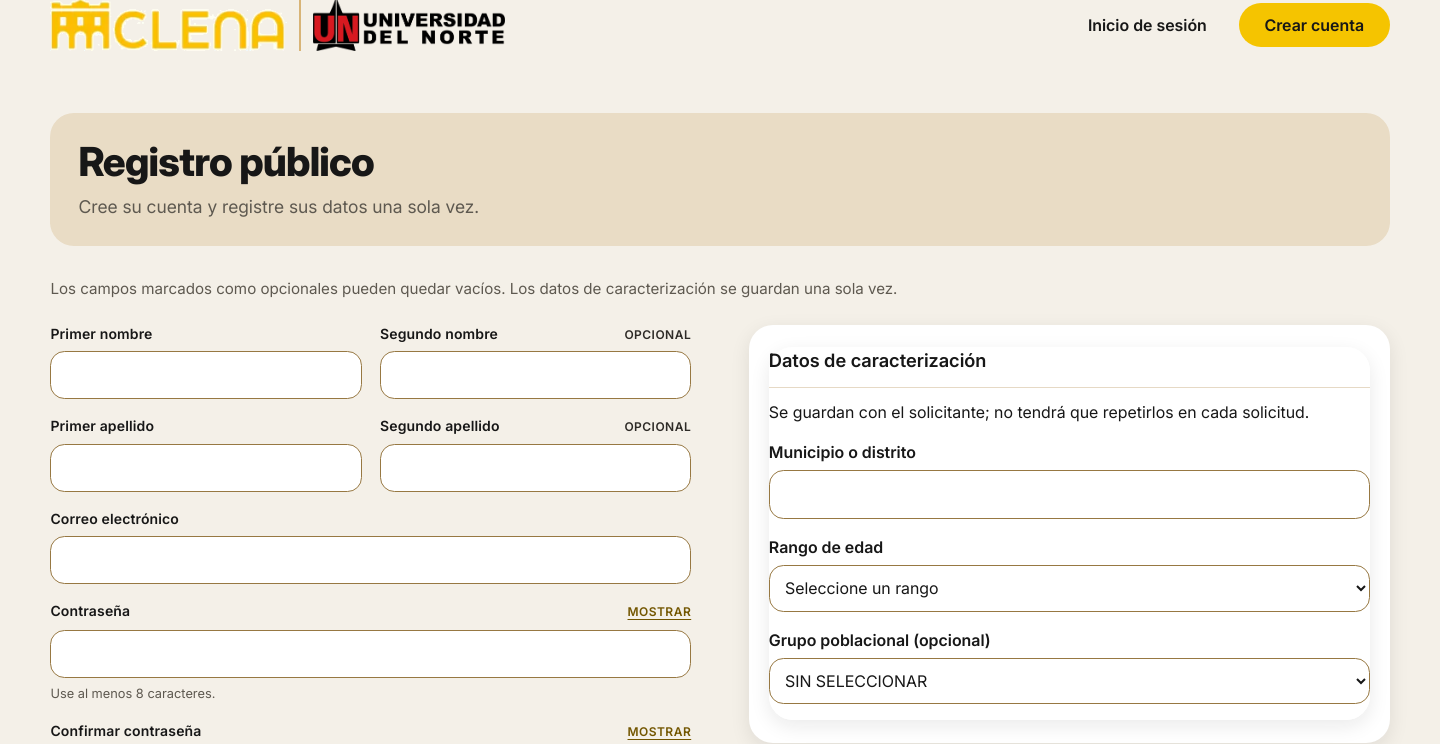
Test: RegisterPage › shows per-field errors and keeps the typed values after an invalid submit
In the field labelled "Primer nombre": (206, 375) [50,351,362,399], type "A"
In the field labelled "Primer apellido": (206, 468) [50,444,362,492], type "P"
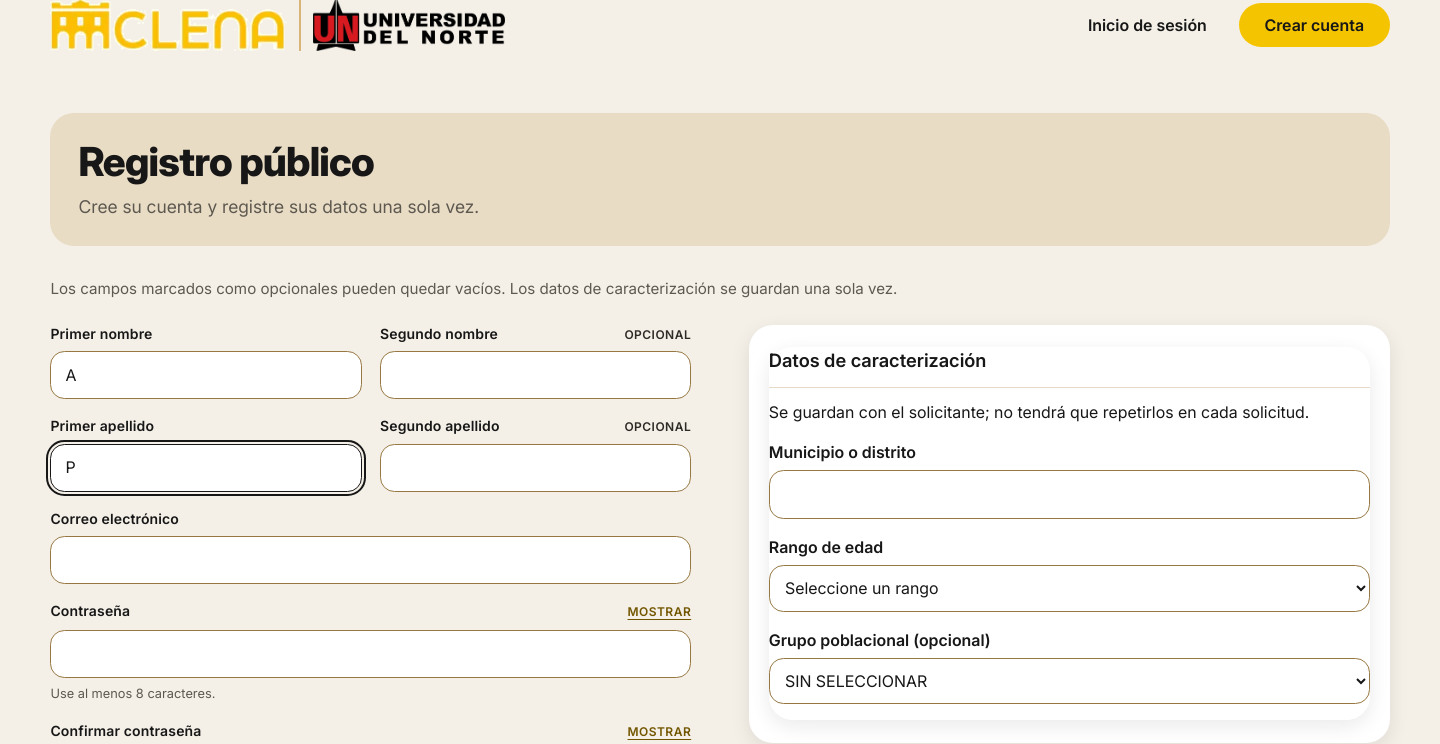
In the field labelled "Correo electrónico": (371, 560) [50,536,691,584], type "ana@mail"
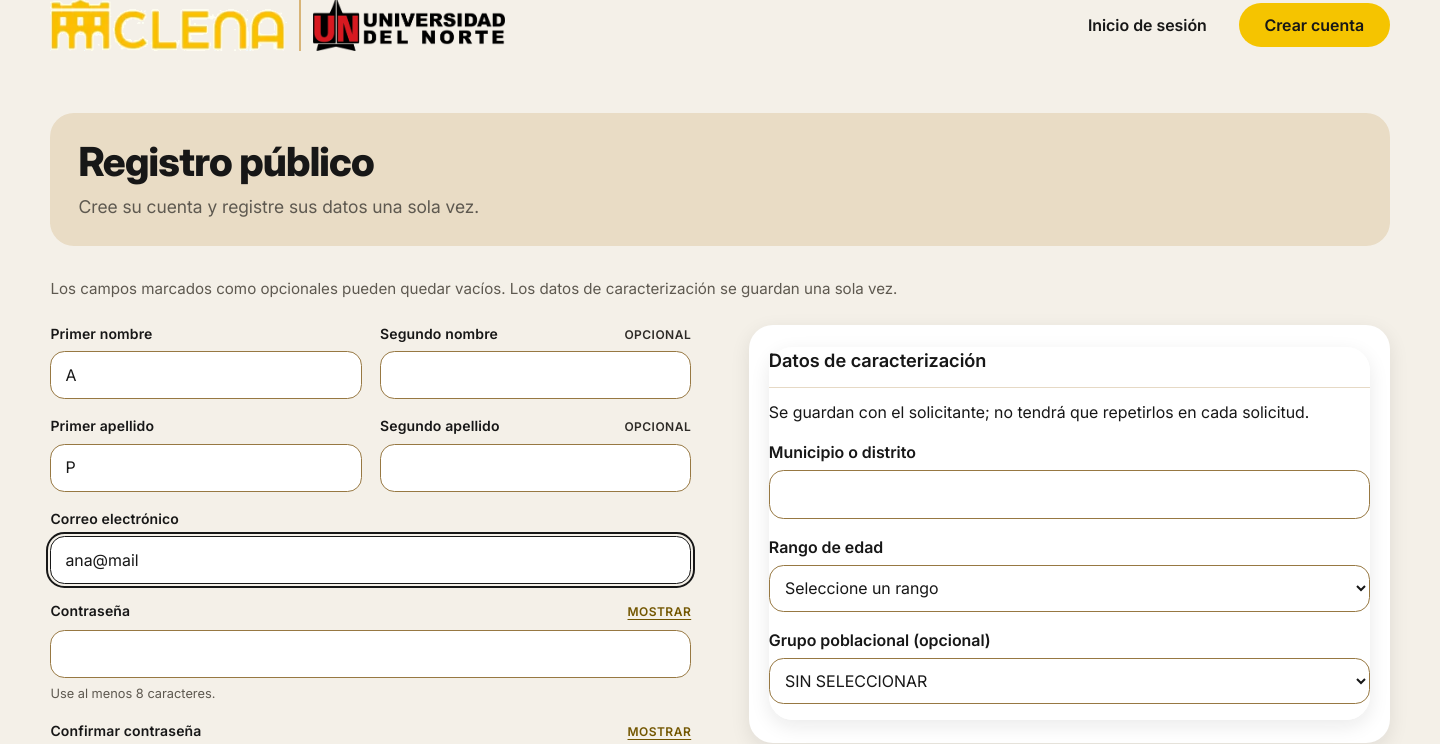
In the password field labelled "Contraseña": (371, 654) [50,630,691,678], type "secret123"
(page scrolled)
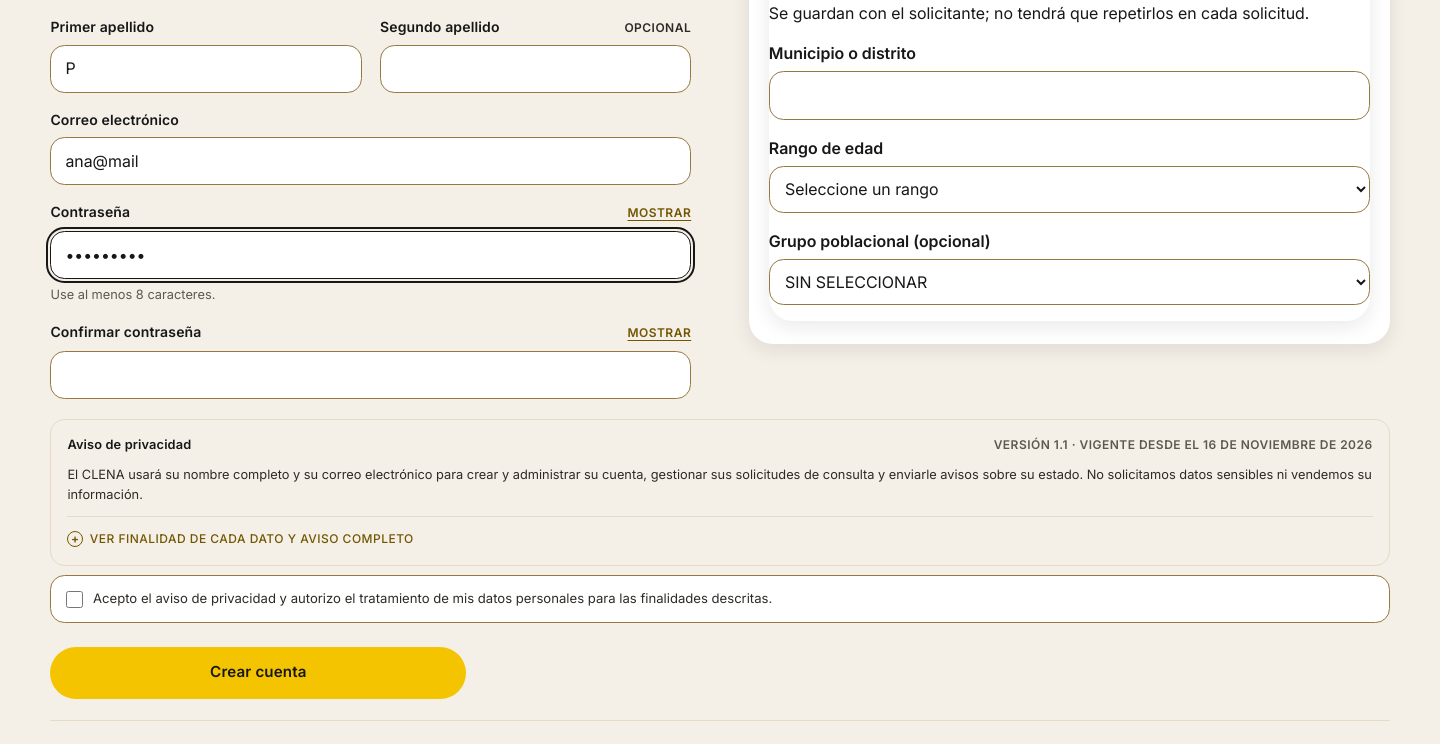
In the password field labelled "Confirmar contraseña": (371, 375) [50,351,691,399], type "secret123"
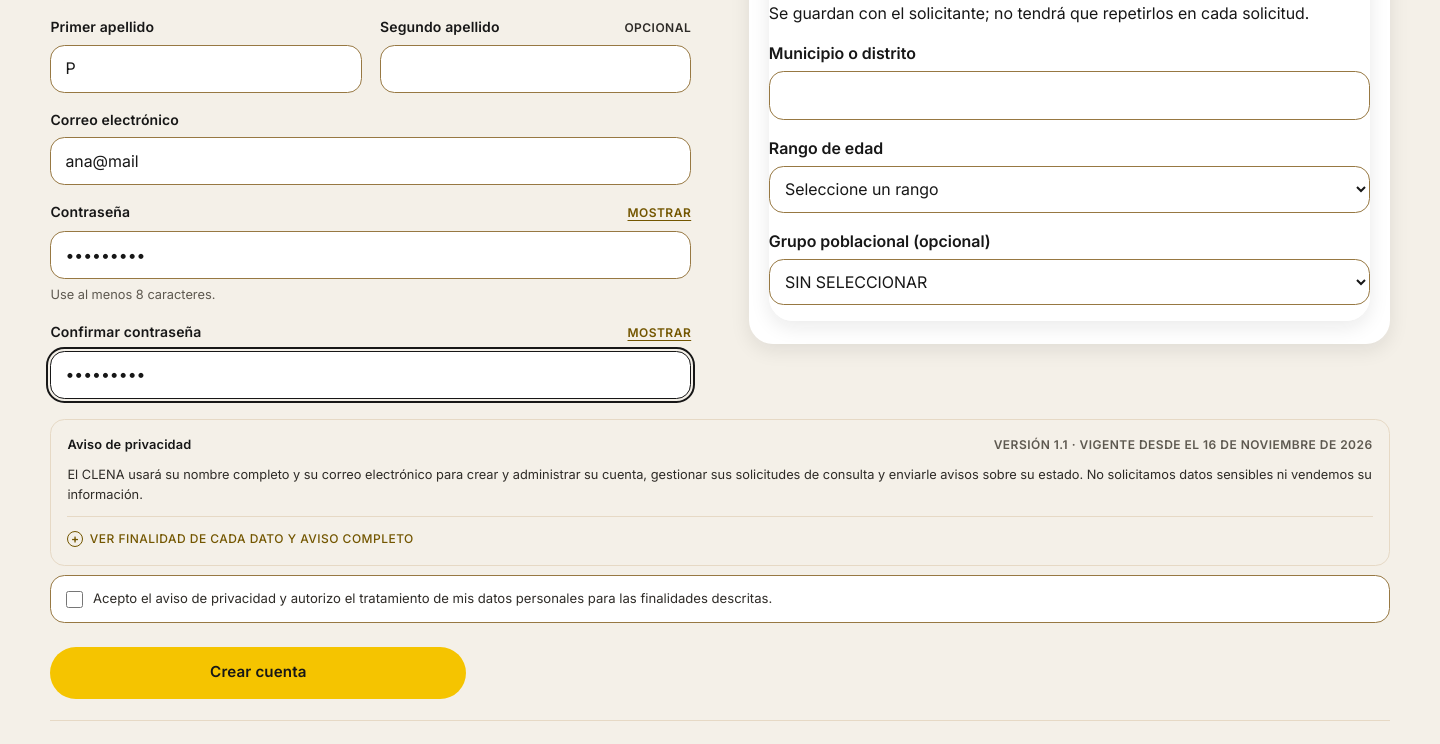
Click the checkbox labelled "Acepto el aviso de privacidad": (74, 600) [66,591,83,608]
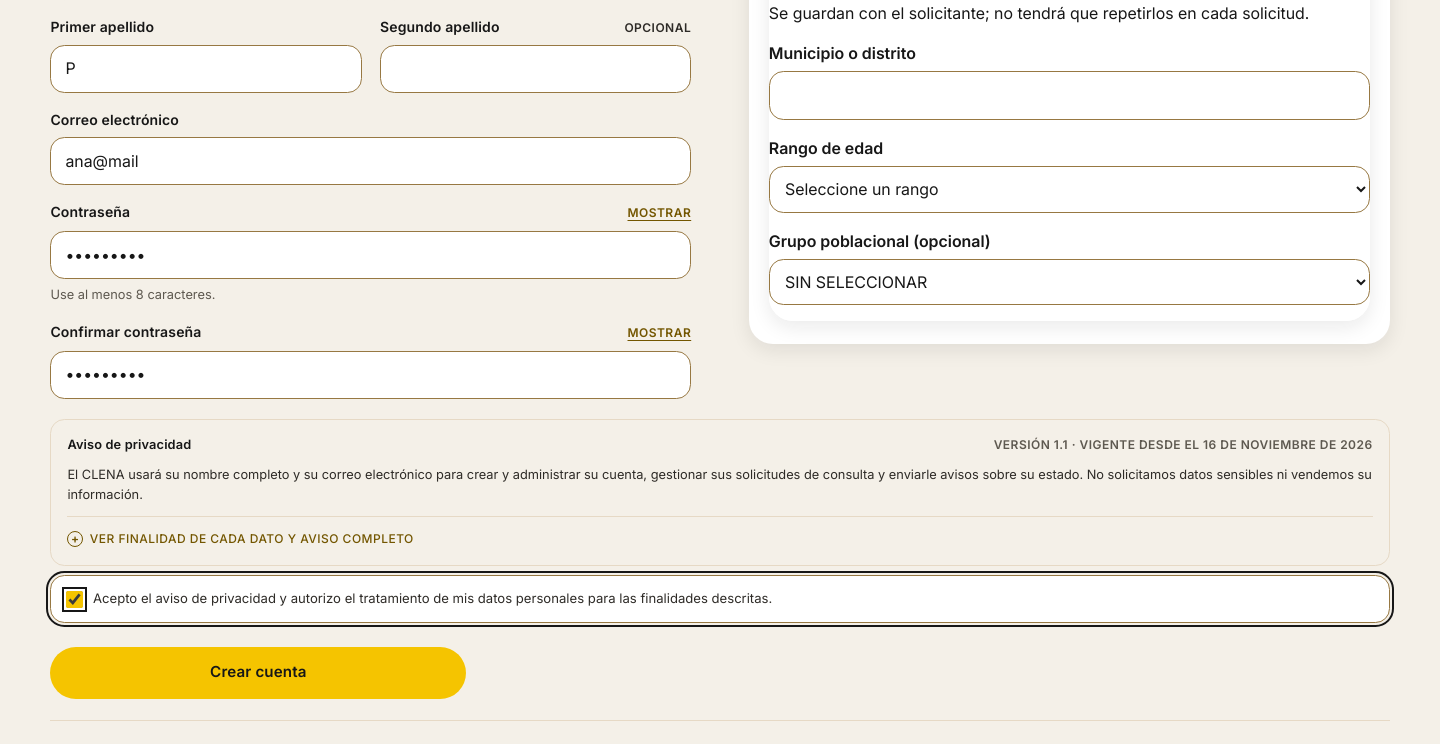
Click the button "Crear cuenta": (258, 672) [50,646,466,698]
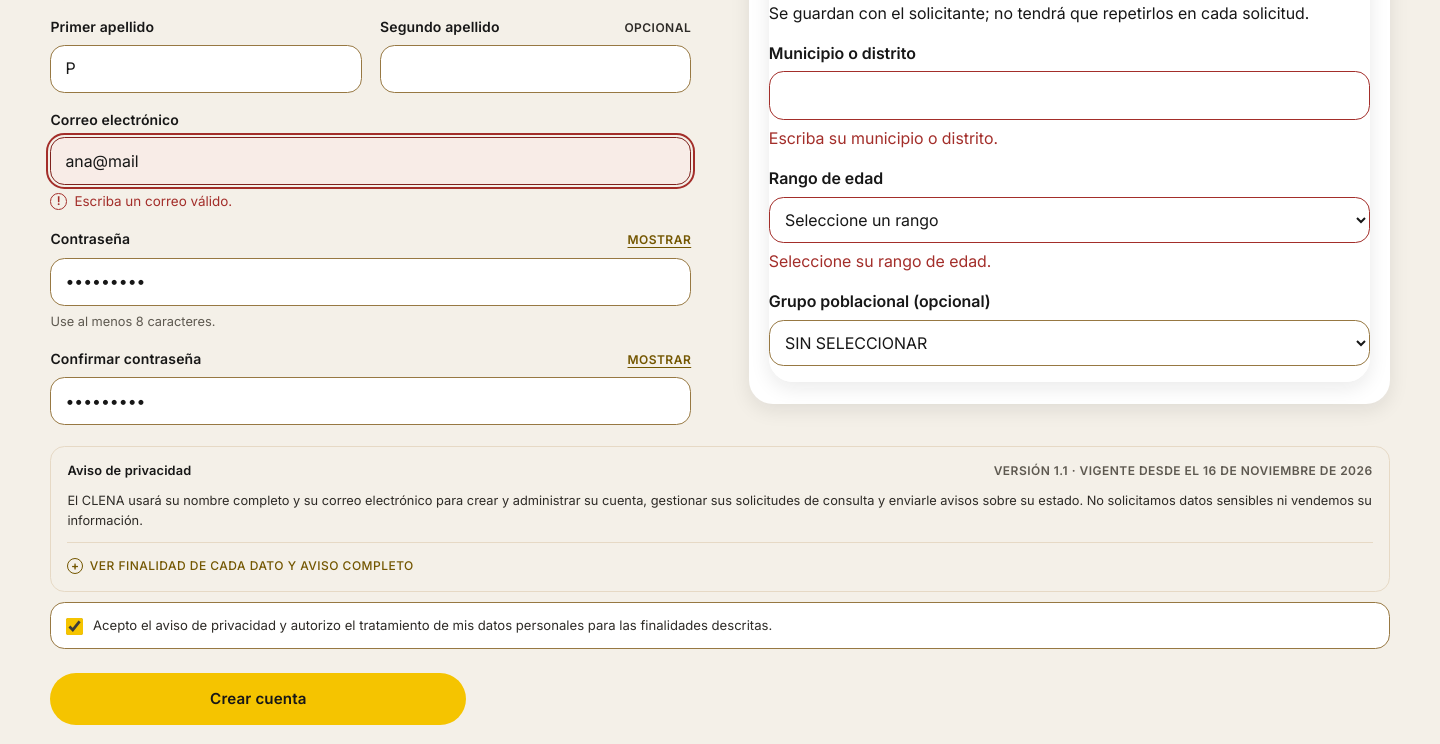
Now the text "Escriba un correo válido." is shown, box [74,192,232,212]
